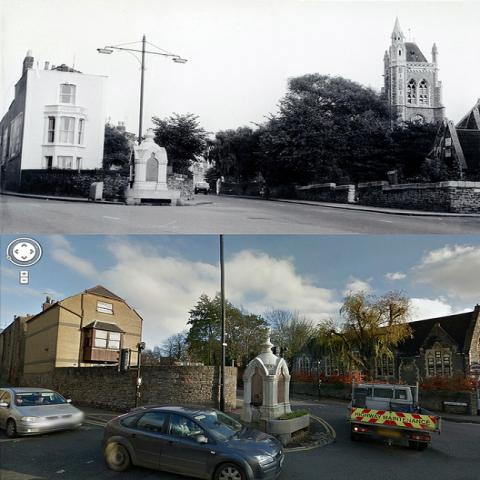car: (99, 403, 285, 479), (0, 387, 85, 437), (195, 182, 210, 195)
truck: (347, 376, 442, 451), (196, 183, 210, 194)
